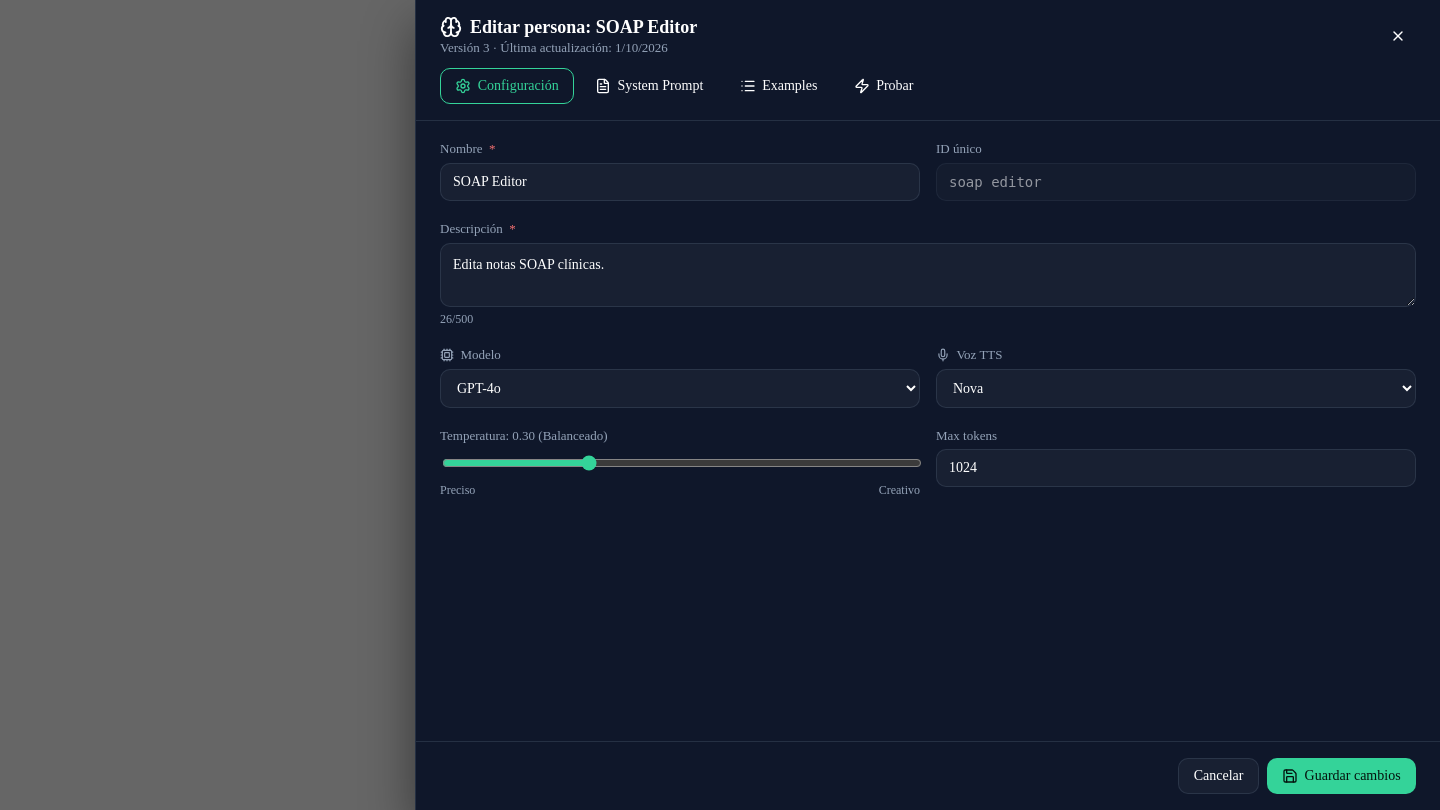
Test case: PersonaEditor › runs a test through store.test and renders the output
This screenshot has width=1440, height=810.
Click the tab "Probar".
click(884, 86)  # box [838,68,929,104]
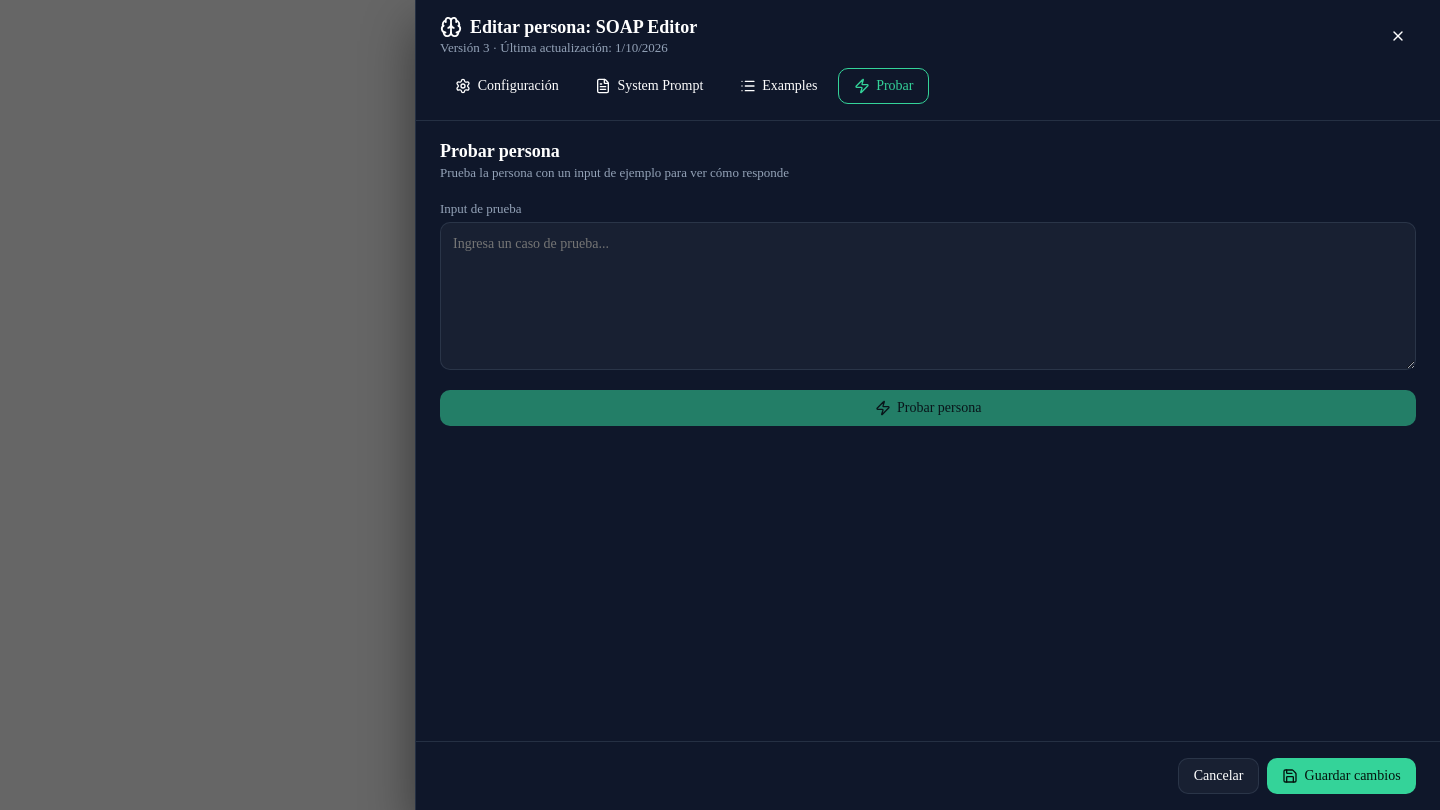
Type "hola" into the text box labelled "Input de prueba".
click(928, 296); type("hola")  # box [440,222,1416,370]
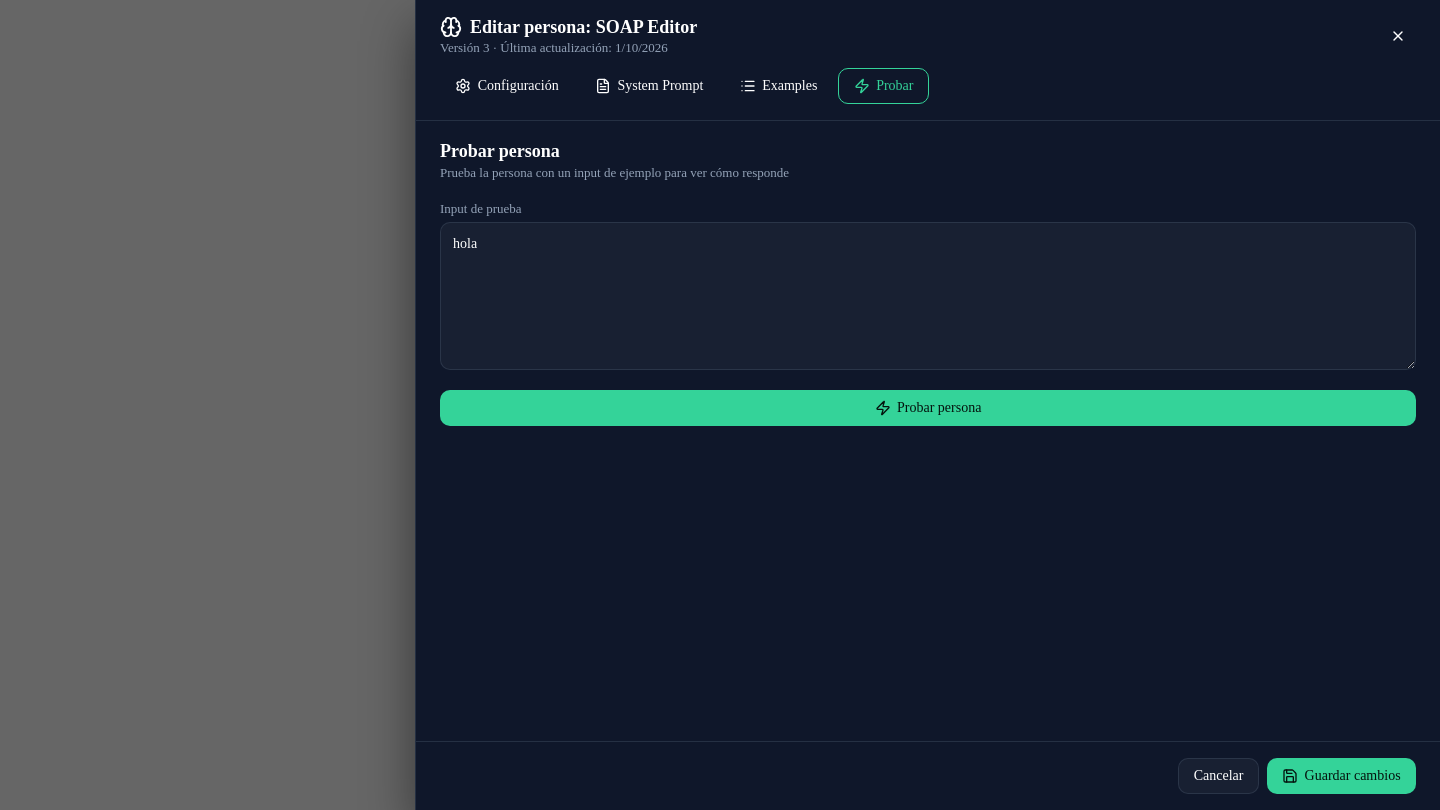
Click the button "Probar persona".
click(928, 408)  # box [440,390,1416,426]
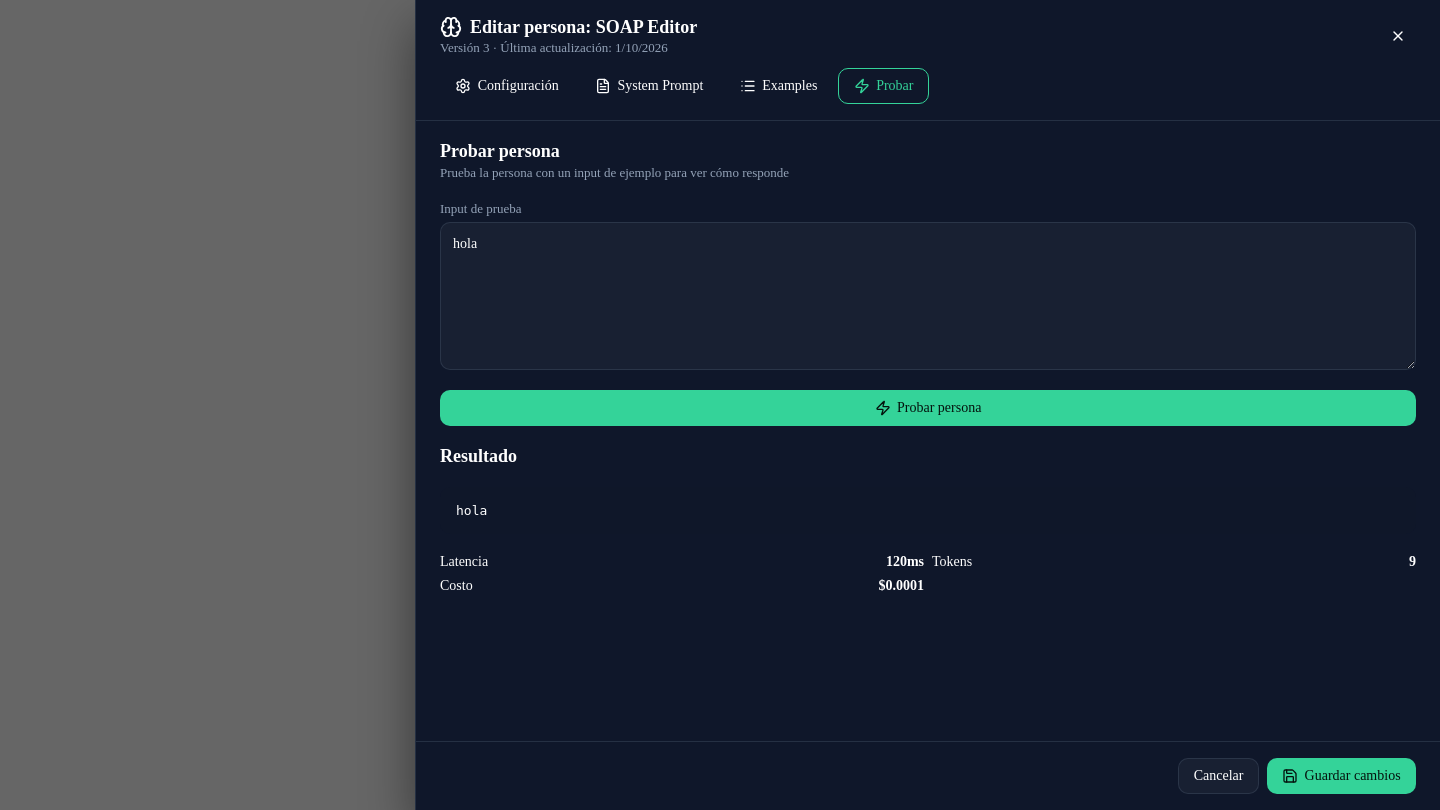
Check: the text with test id "persona-test-output" reads "hola", box [456,503,487,518]
Check: the text "Tokens" is shown, box [932,554,972,570]
